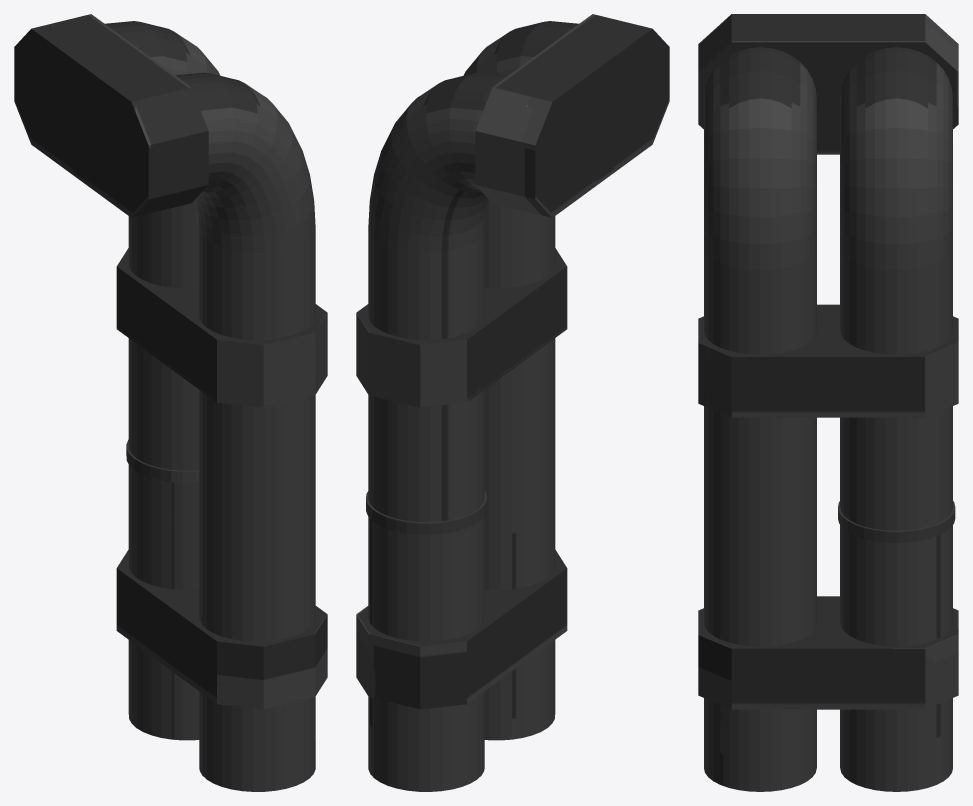
The model's file is Pipe_UW.fbx.
3 views of the same model, side by side, from view 1: azimuth 30°, elevation 25°; view 2: azimuth 150°, elevation 25°; view 3: azimuth 270°, elevation 25° (orthographic). The views are drawn at different scales.
Parts seen in each view (by area): view 1: Cylinder.009; view 2: Cylinder.009; view 3: Cylinder.009.
Part boxes in pixels (x1,y1,x2,y2): Cylinder.009: (14,14,327,791); Cylinder.009: (356,14,669,791); Cylinder.009: (698,14,958,791).
Bounding box in the file's own units: 35.39 × 122 × 41.97.
1 material, 1 textured.
